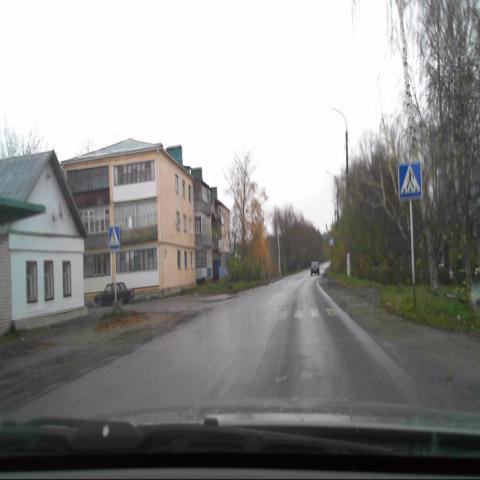5_19_1: (398, 162, 422, 198), (108, 225, 120, 249)
